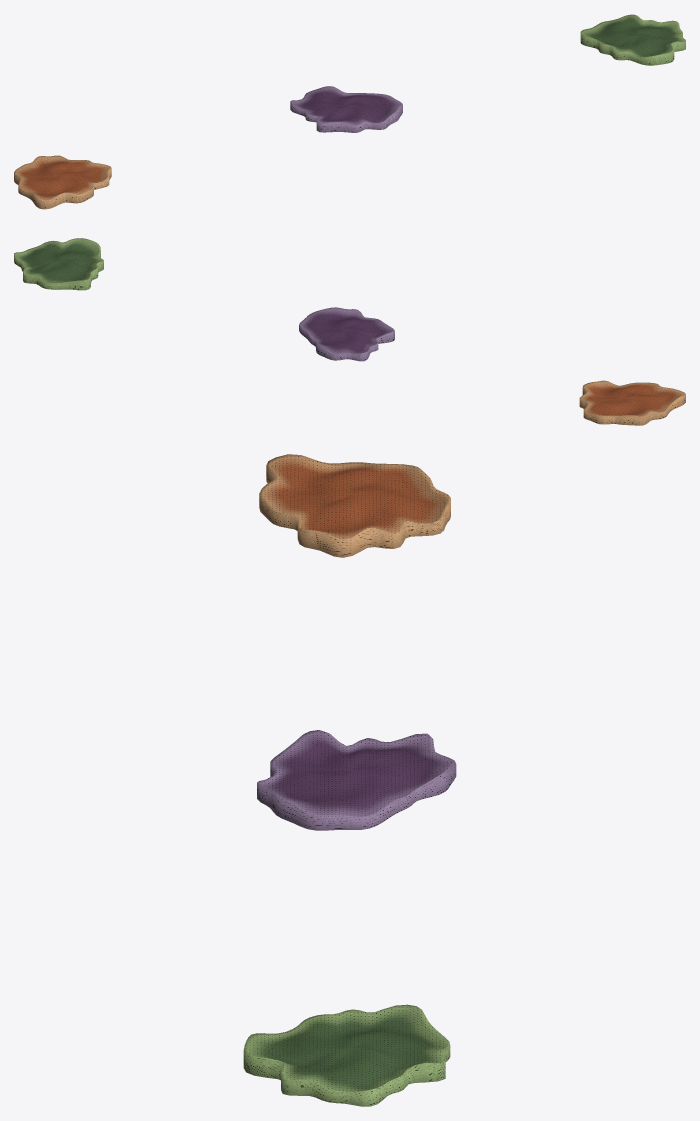
3 views of the same model, one above another, from view 1: azimuth 30°, elevation 25°; view 2: azimuth 150°, elevation 25°; view 3: azimuth 270°, elevation 25° (orthographic). The views are drawn at different scales.
Visible parts, largest first — view 1: montipora-2, montipora-1, montipora-0; view 2: montipora-0, montipora-1, montipora-2; view 3: montipora-2, montipora-0, montipora-1.
Boxes of the visible parts, x1,y1,x2,y2 form: montipora-2: (580,14,685,65); montipora-1: (290,86,402,132); montipora-0: (14,155,111,209); montipora-0: (579,380,685,425); montipora-1: (299,307,394,361); montipora-2: (14,238,103,290); montipora-2: (243,1004,450,1106); montipora-0: (259,454,450,557); montipora-1: (257,730,456,830).
Size of the model in its own units: 1.38 by 0.02 by 0.1949.
Materials: 1 (1 with a texture image).
